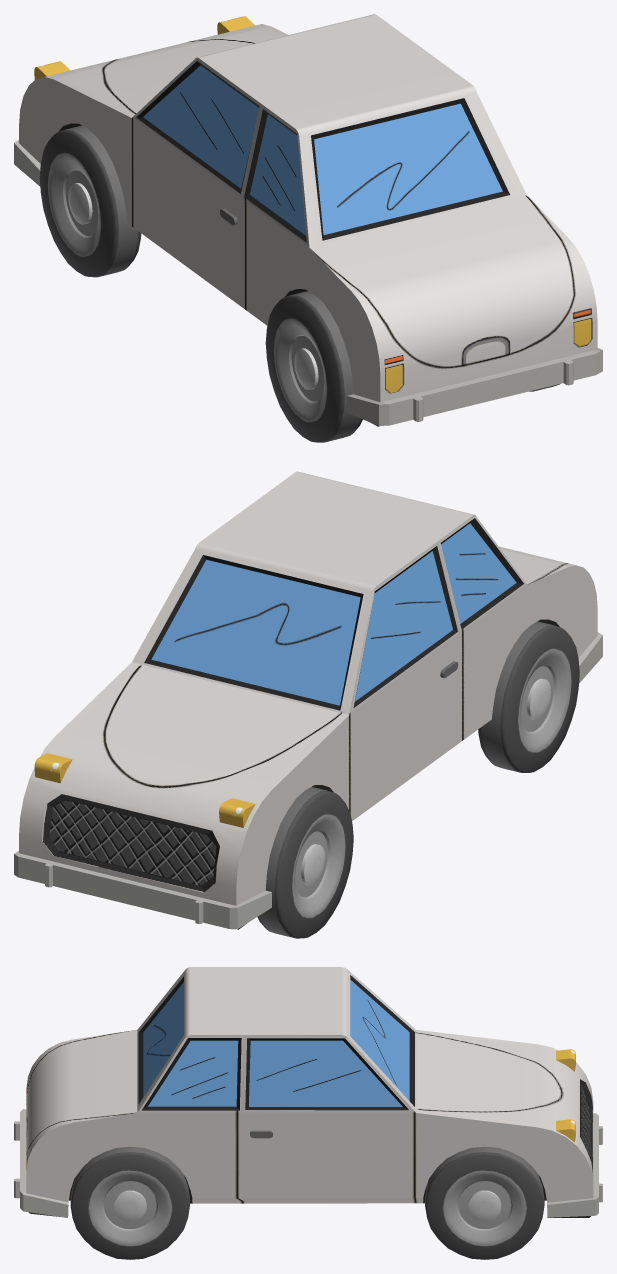
Rendered from car.fbx.
3 views of the same model, one above another, from view 1: azimuth 30°, elevation 25°; view 2: azimuth 150°, elevation 25°; view 3: azimuth 270°, elevation 25° (orthographic). The views are drawn at different scales.
Visible parts, largest first — view 1: pCylinder3; view 2: pCylinder3; view 3: pCylinder3.
Part boxes in pixels (<box>): pCylinder3: <box>14,14,602,442</box>; pCylinder3: <box>14,471,602,938</box>; pCylinder3: <box>14,967,602,1259</box>.
Size of the model in its own units: 1.63 by 1.76 by 4.37.
Materials: 1 (1 with a texture image).
